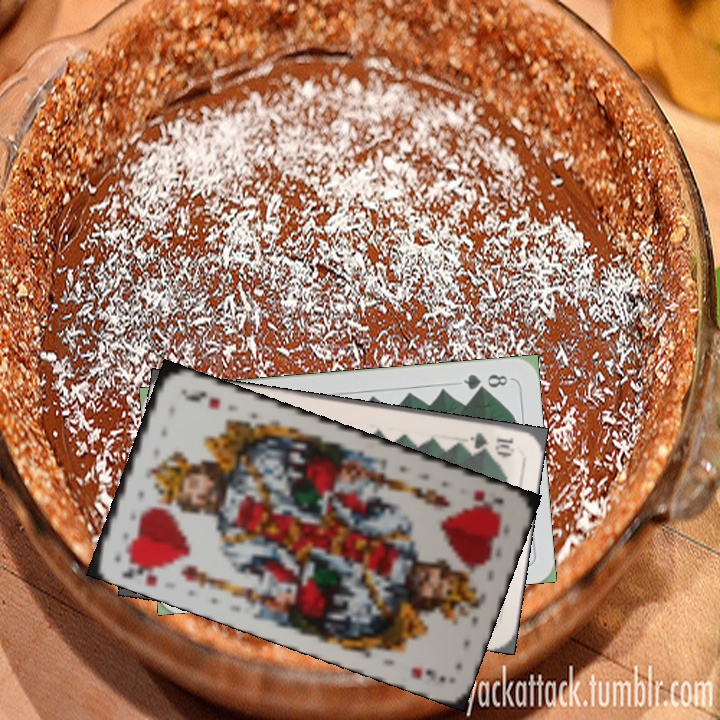G10: (466, 428, 517, 457)
G8: (459, 370, 511, 393)
HK: (117, 552, 169, 589), (469, 485, 507, 518)
